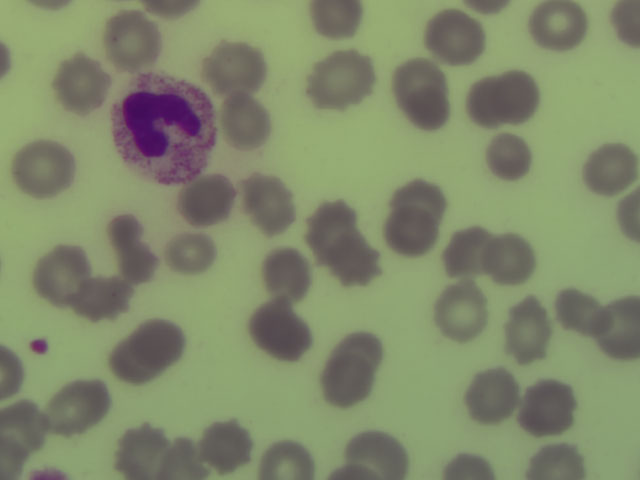Platelets: (31, 339, 50, 354)
RBC: (249, 300, 314, 363), (102, 8, 167, 67), (15, 142, 77, 200), (507, 293, 552, 370), (316, 55, 376, 112), (208, 37, 266, 95), (216, 90, 274, 148), (58, 56, 112, 118), (127, 315, 186, 371), (40, 244, 91, 306), (469, 366, 515, 434), (250, 170, 298, 235), (439, 283, 491, 343), (527, 380, 583, 435), (56, 377, 107, 437), (344, 434, 410, 480), (397, 57, 451, 112), (308, 200, 357, 257), (432, 10, 485, 62), (397, 178, 449, 230), (329, 234, 381, 286), (175, 181, 232, 228), (484, 236, 535, 288), (200, 425, 254, 474), (388, 207, 441, 255), (114, 426, 165, 475), (531, 7, 585, 51), (500, 66, 543, 121), (587, 145, 636, 193), (442, 224, 487, 276), (260, 440, 317, 480), (326, 355, 371, 405), (82, 278, 132, 323), (563, 286, 607, 337), (606, 298, 640, 364), (486, 135, 535, 180), (113, 344, 162, 389), (309, 3, 367, 40), (167, 230, 218, 272), (268, 250, 312, 298), (9, 401, 52, 450), (528, 447, 590, 480), (411, 83, 451, 134), (341, 327, 385, 373), (474, 81, 511, 129), (446, 448, 494, 480), (166, 434, 197, 480), (123, 246, 159, 284), (613, 2, 638, 54), (1, 346, 25, 400), (106, 214, 148, 244), (616, 188, 640, 239), (4, 435, 30, 480), (332, 458, 379, 480), (145, 1, 204, 13), (460, 1, 513, 14), (31, 1, 75, 11), (3, 40, 12, 82)
WBC: (114, 80, 219, 184)
